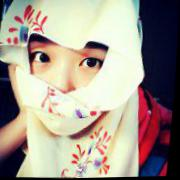WRONG: (18, 25, 117, 138)
